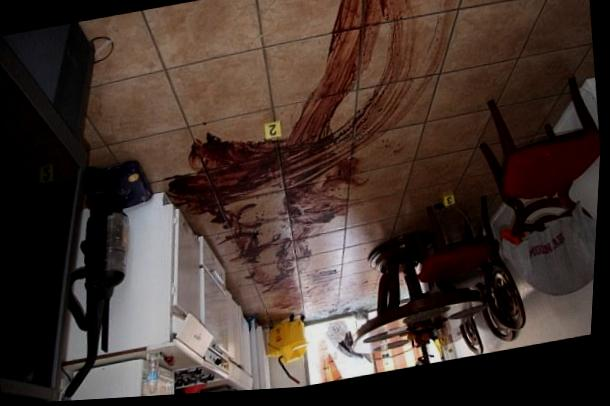Fire: (167, 0, 462, 326)
